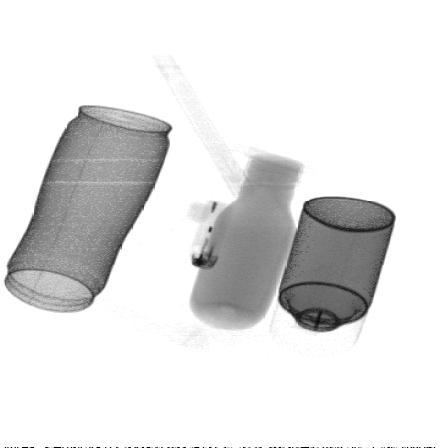Lighter: (187, 199, 237, 271)
Sprayer: (269, 195, 397, 359)
